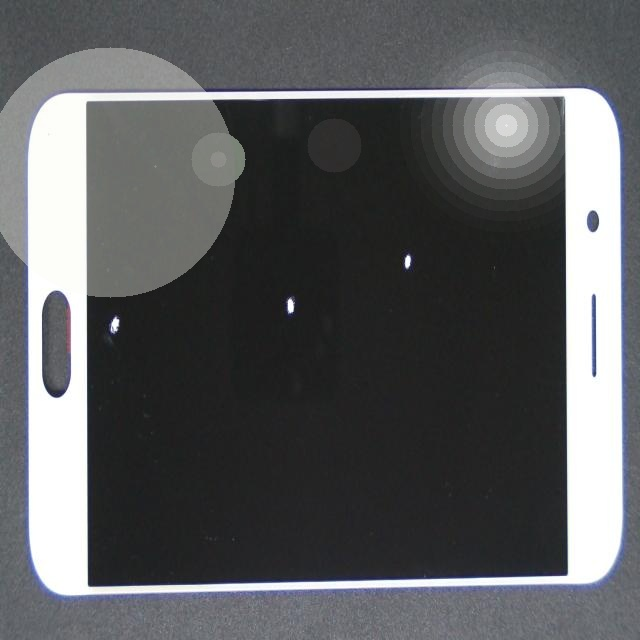stain: (220, 115, 613, 360), (163, 94, 433, 431), (48, 179, 145, 536)
